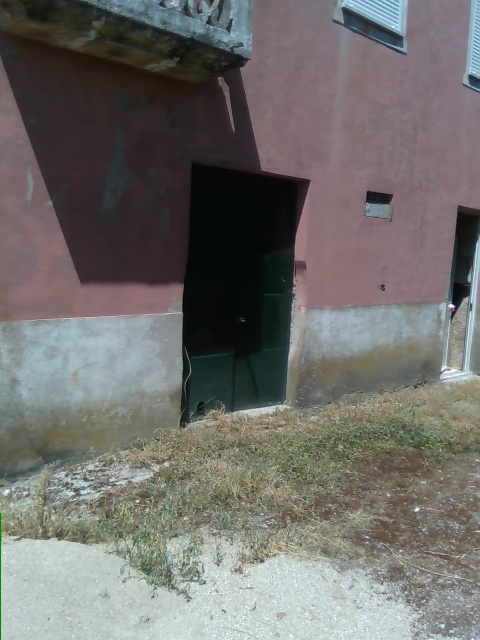closed: (179, 164, 300, 430)
